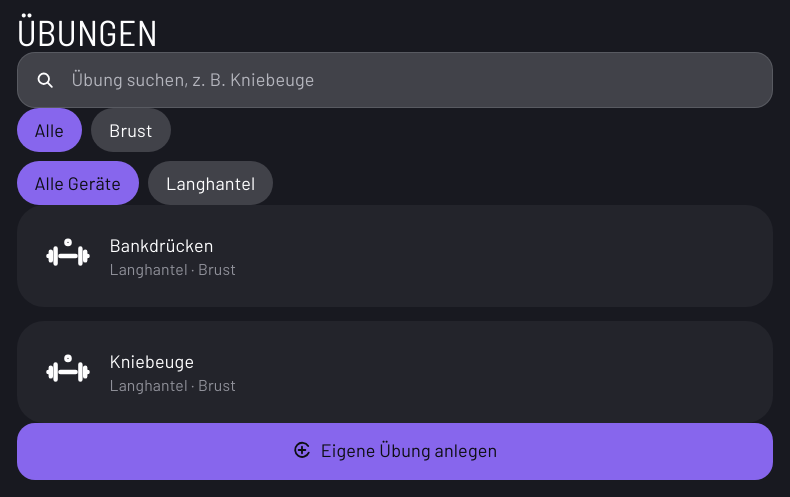
Test case: ExercisesPage › lists exercises and filters by name as the user types
This screenshot has width=790, height=497.
Expected: the text "Bankdrücken" is shown, top-left (110, 234), bottom-right (214, 256)
Expected: the text "Kniebeuge" is shown, top-left (110, 350), bottom-right (194, 372)
Type "Bank" into the field labelled "suche" at coordinates (394, 80), box top-left (16, 52), bottom-right (772, 108)
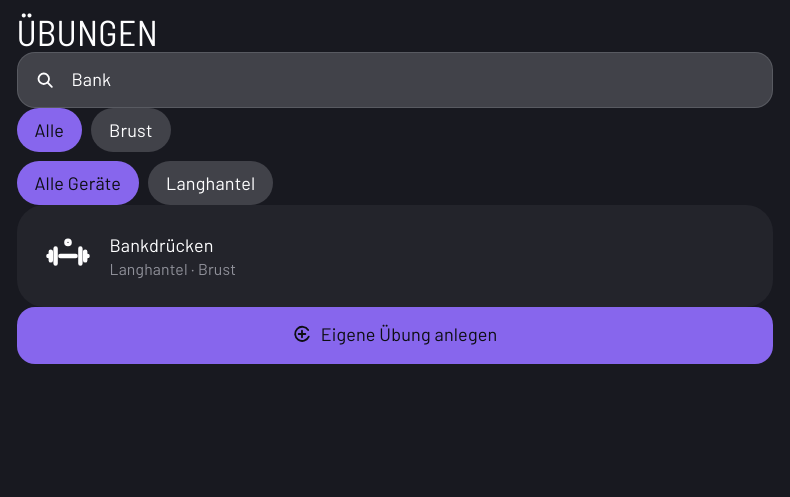
Expected: the text "Bankdrücken" is shown, top-left (110, 234), bottom-right (214, 256)
Expected: the button "Kniebeuge" is gone
